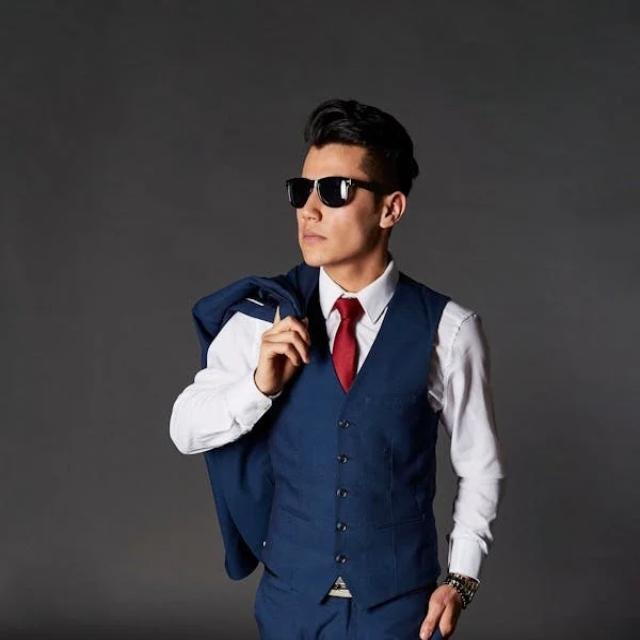Real human 2: (140, 87, 523, 640)
